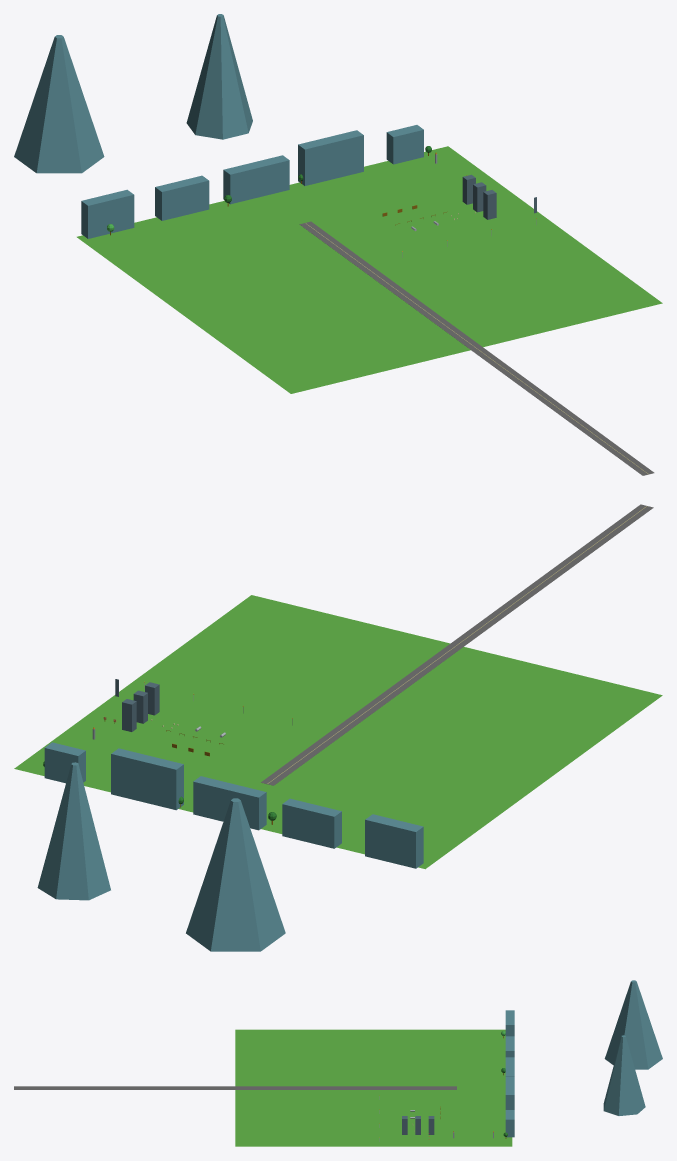
Rendered from sector_r0_c1.glb.
3 views of the same model, one above another, from view 1: azimuth 30°, elevation 25°; view 2: azimuth 150°, elevation 25°; view 3: azimuth 270°, elevation 25° (orthographic). The views are drawn at different scales.
Visible parts, largest first — view 1: GROUND_r0_c1, MOUNTAIN_12, MOUNTAIN_11, ROAD_District_NS_3, WALL_NorthCliff_8, WALL_NorthCliff_7, WALL_NorthCliff_5, WALL_NorthCliff_6, WALL_NorthCliff_9; view 2: GROUND_r0_c1, MOUNTAIN_12, MOUNTAIN_11, ROAD_District_NS_3, WALL_NorthCliff_8, WALL_NorthCliff_5, WALL_NorthCliff_7, WALL_NorthCliff_6, WALL_NorthCliff_9; view 3: GROUND_r0_c1, MOUNTAIN_12, MOUNTAIN_11, ROAD_District_NS_3, WALL_NorthCliff_8, WALL_NorthCliff_5, WALL_NorthCliff_9.
Part boxes in pixels (box(x1,y1,x2,y2)): GROUND_r0_c1: box(77, 146, 662, 393); MOUNTAIN_12: box(14, 35, 104, 173); MOUNTAIN_11: box(186, 14, 252, 139); ROAD_District_NS_3: box(299, 221, 654, 475); WALL_NorthCliff_8: box(298, 130, 363, 185); WALL_NorthCliff_7: box(223, 155, 289, 204); WALL_NorthCliff_5: box(81, 189, 134, 238); WALL_NorthCliff_6: box(155, 175, 209, 220); WALL_NorthCliff_9: box(386, 125, 423, 164); GROUND_r0_c1: box(14, 595, 662, 869); MOUNTAIN_12: box(186, 798, 285, 951); MOUNTAIN_11: box(37, 762, 110, 900); ROAD_District_NS_3: box(261, 504, 653, 785); WALL_NorthCliff_8: box(111, 748, 183, 810); WALL_NorthCliff_5: box(365, 814, 423, 868); WALL_NorthCliff_7: box(193, 776, 266, 830); WALL_NorthCliff_6: box(282, 798, 341, 848); WALL_NorthCliff_9: box(44, 742, 85, 783); GROUND_r0_c1: box(235, 1029, 512, 1146); MOUNTAIN_12: box(604, 980, 662, 1069); MOUNTAIN_11: box(603, 1035, 645, 1115); ROAD_District_NS_3: box(14, 1086, 456, 1089); WALL_NorthCliff_8: box(505, 1076, 514, 1109); WALL_NorthCliff_5: box(505, 1010, 514, 1036); WALL_NorthCliff_9: box(505, 1110, 514, 1137).
Size of the model in its own units: 250 by 77.22 by 586.
